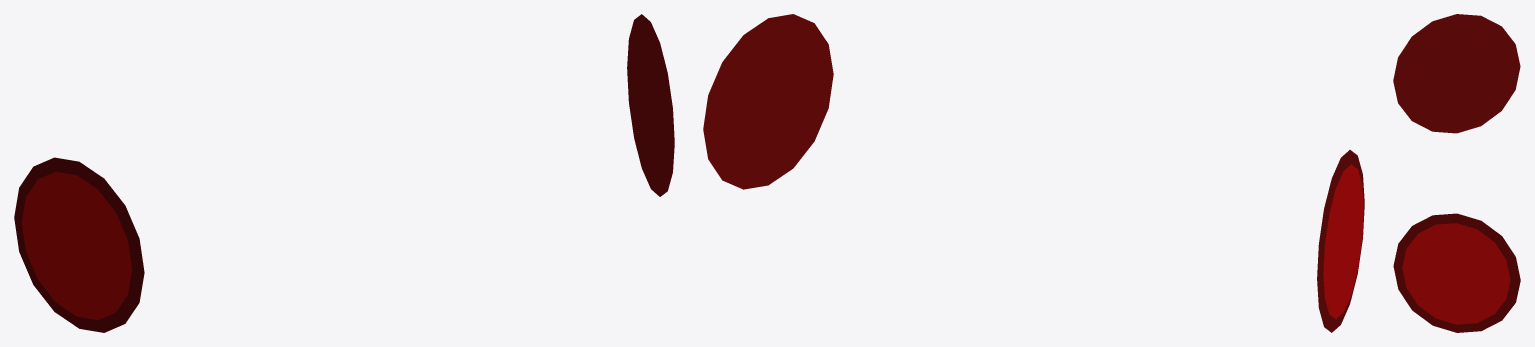
Rendered from christmas_tree_light_red.dae.
3 renders of one model, left to right at view 1: azimuth 30°, elevation 25°; view 2: azimuth 150°, elevation 25°; view 3: azimuth 270°, elevation 25°, orthographic. The views are drawn at different scales.
Visible parts, largest first — view 1: christmas_tree_green_a03; view 2: christmas_tree_green_a03; view 3: christmas_tree_green_a03.
Part boxes in pixels (left/top/right/bottom): christmas_tree_green_a03: left=14, top=14, right=674, bottom=332; christmas_tree_green_a03: left=703, top=14, right=1364, bottom=332; christmas_tree_green_a03: left=1393, top=14, right=1520, bottom=332.
Size of the model in its own units: 0.7371 by 0.1859 by 0.192.
